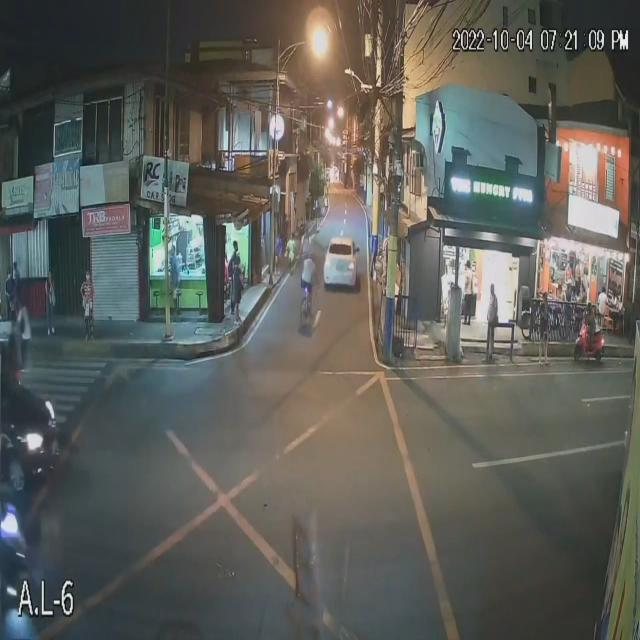Full-Faced: (584, 296, 594, 318)
